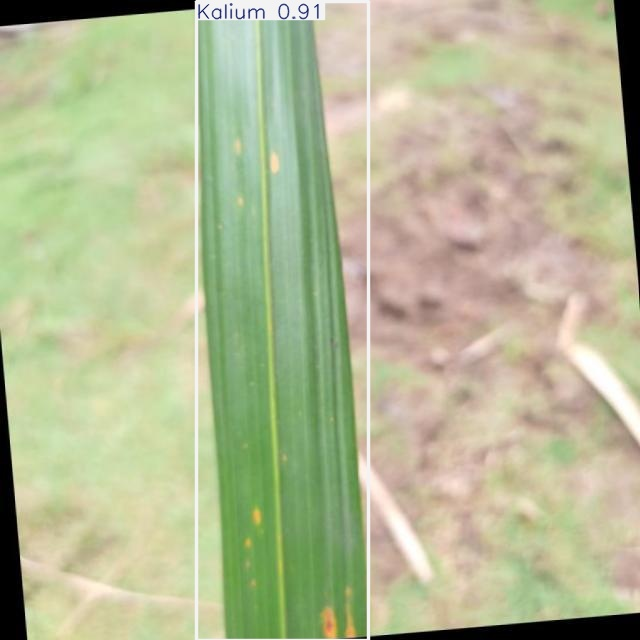Kalium: (196, 1, 368, 640)
